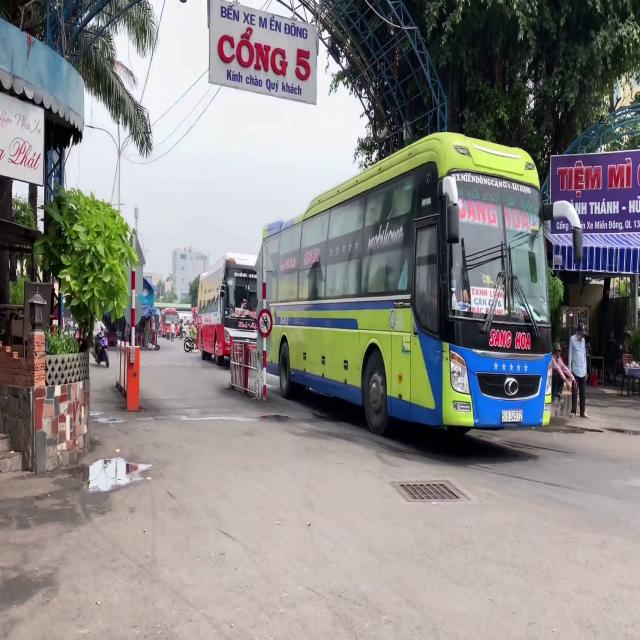bien_trang: (501, 410, 523, 424)
